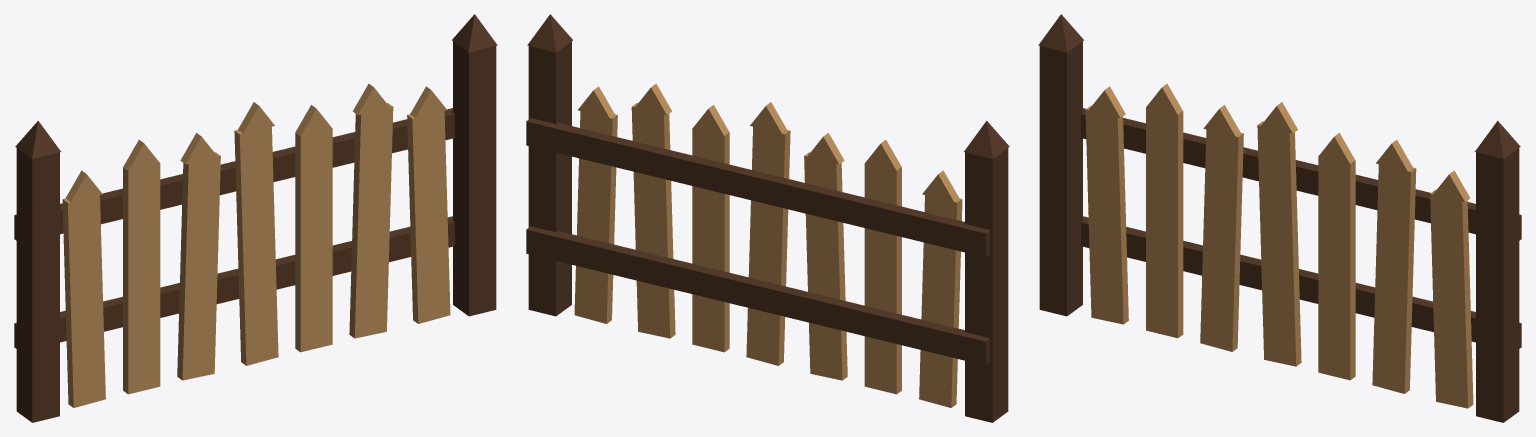
The model's file is Zaun.fbx.
The picture shows the model from 3 angles, left to right: view 1: azimuth 30°, elevation 25°; view 2: azimuth 150°, elevation 25°; view 3: azimuth 330°, elevation 25°; orthographic projection.
Parts seen in each view (by area): view 1: Zaun; view 2: Zaun; view 3: Zaun.
Boxes of the visible parts, <box> form: Zaun: <box>14,14,497,422</box>; Zaun: <box>526,14,1009,422</box>; Zaun: <box>1038,14,1521,422</box>.
Bounding box in the file's own units: 2.03 × 1.22 × 0.1586.
